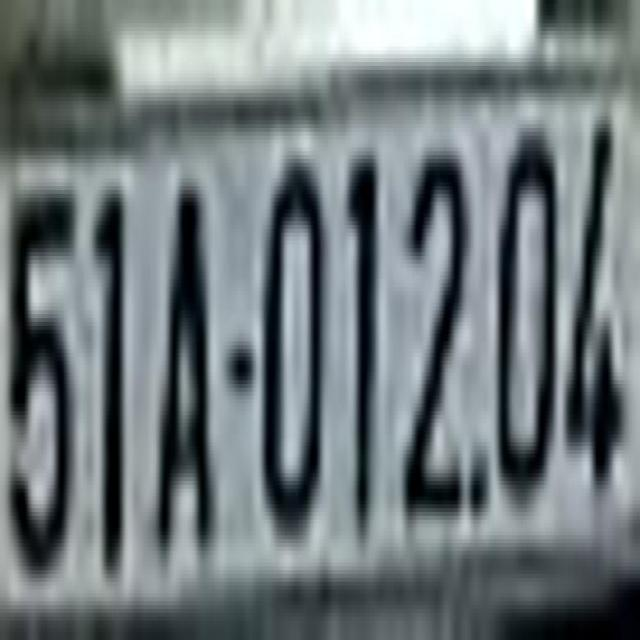0: (263, 144, 323, 543), (497, 112, 557, 485)
1: (345, 144, 384, 543), (96, 190, 129, 562)
2: (403, 144, 463, 508)
4: (569, 128, 616, 485)
5: (9, 159, 76, 566)
A: (153, 163, 218, 562)
